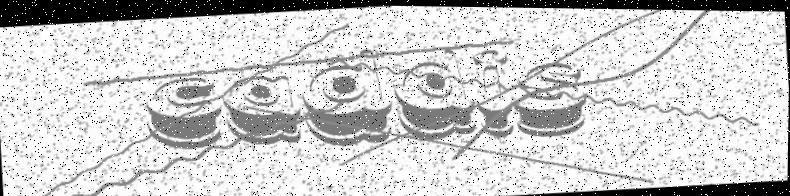a: (221, 71, 304, 147)
c: (144, 73, 226, 153)
d: (299, 45, 393, 148), (390, 46, 477, 143)
i: (469, 44, 516, 139)
s: (511, 57, 589, 138)
